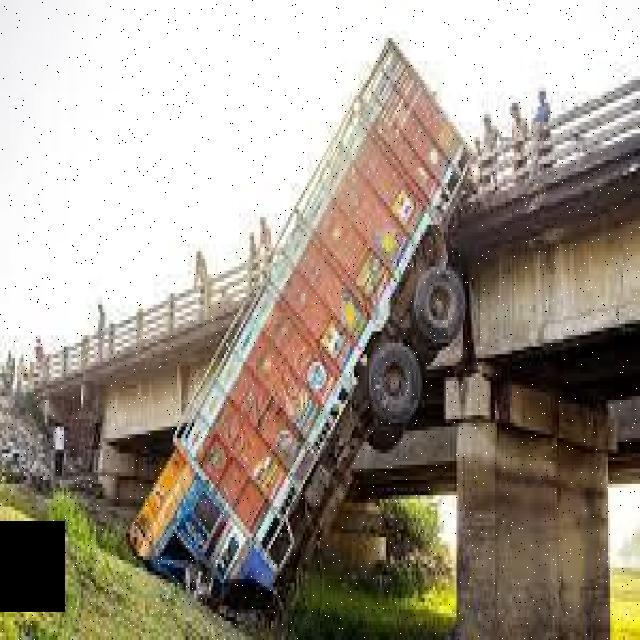severe: (121, 30, 474, 618)
